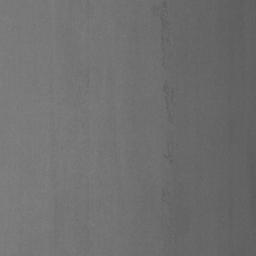Silk spot: (163, 80, 174, 123), (164, 142, 173, 164), (160, 12, 169, 30), (251, 184, 256, 208)
